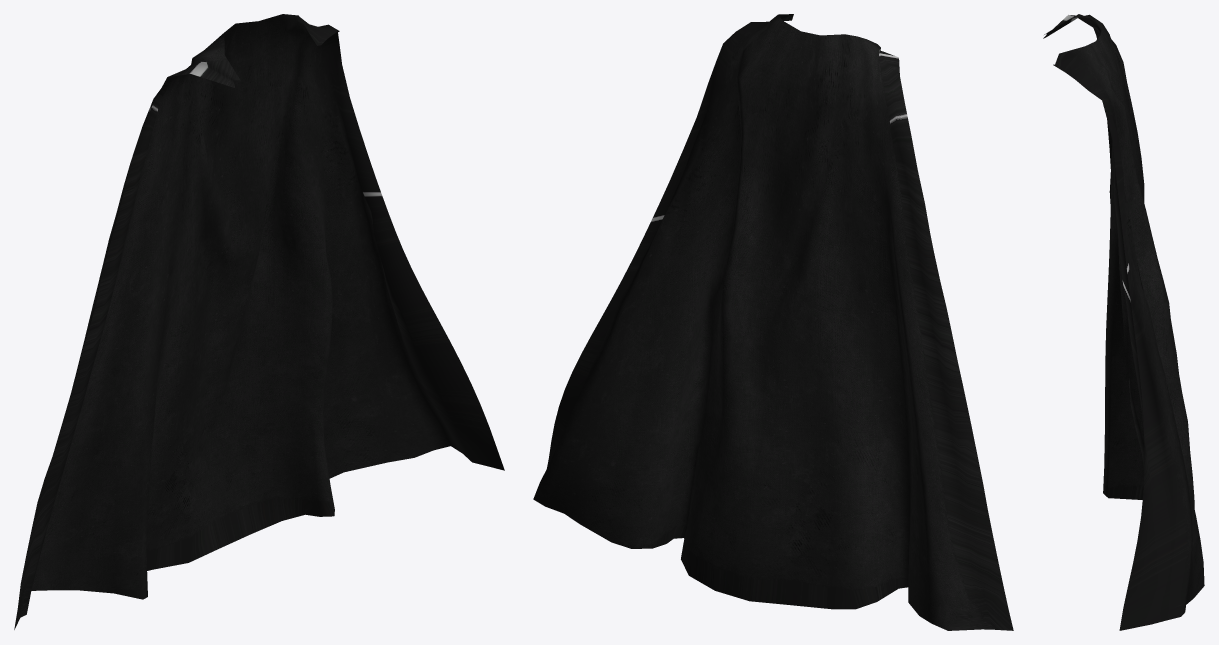
The model's file is clo_sauron_pauldrons.fbx.
3 renders of one model, left to right at view 1: azimuth 30°, elevation 25°; view 2: azimuth 150°, elevation 25°; view 3: azimuth 270°, elevation 25°, orthographic. The views are drawn at different scales.
Visible parts, largest first — view 1: clo_sauron_pauldrons; view 2: clo_sauron_pauldrons; view 3: clo_sauron_pauldrons.
Boxes of the visible parts, x1=… form: clo_sauron_pauldrons: x1=14, y1=14, x2=504, y2=629; clo_sauron_pauldrons: x1=533, y1=14, x2=1013, y2=630; clo_sauron_pauldrons: x1=1043, y1=14, x2=1204, y2=630.
Size of the model in its own units: 1.16 by 0.3584 by 1.28.
Materials: 1 (1 with a texture image).
